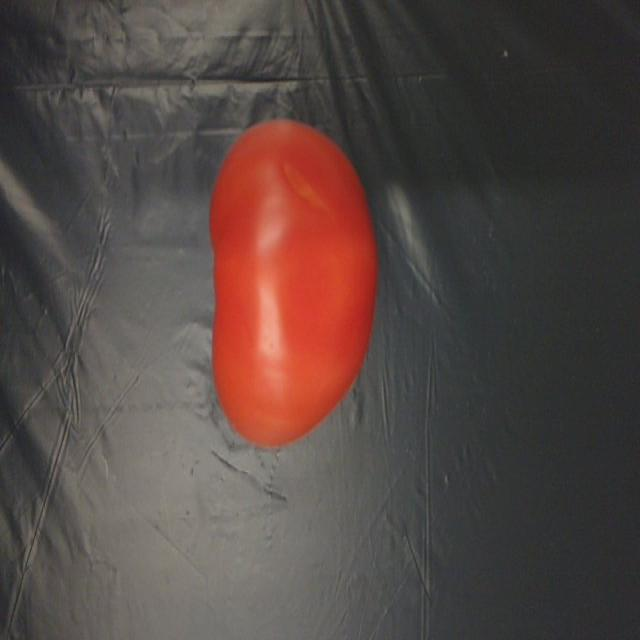kirmizi: (195, 112, 402, 444)
